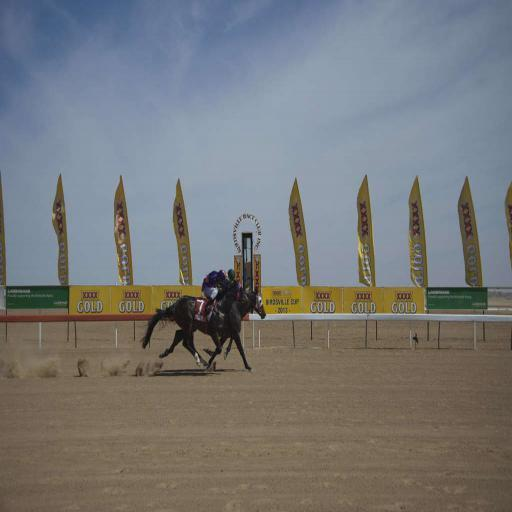horse: (138, 278, 252, 368), (158, 286, 266, 368)
